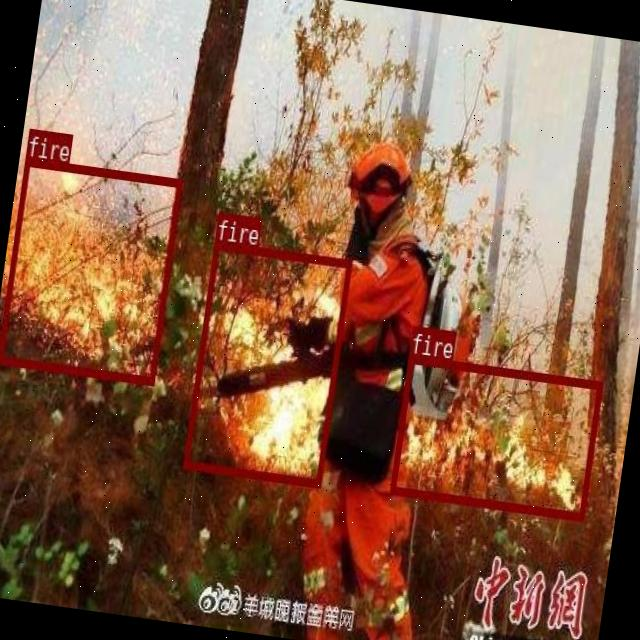fire: (182, 240, 352, 486), (0, 156, 182, 384), (390, 352, 602, 520)
